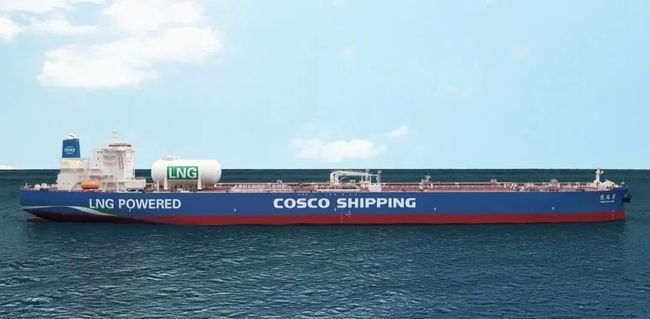Cargoship: (16, 124, 634, 234)
